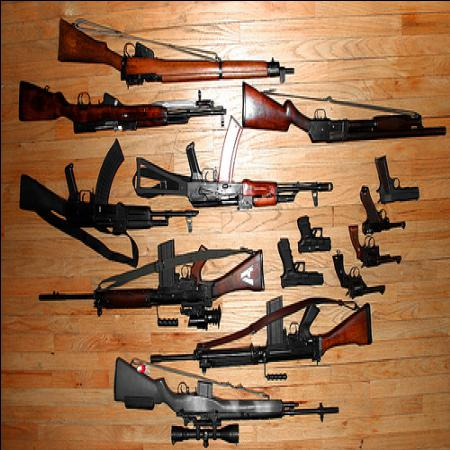Pistol: (330, 253, 384, 302), (275, 238, 323, 290), (346, 227, 401, 268), (370, 160, 418, 206), (356, 187, 398, 238), (294, 217, 332, 255)
